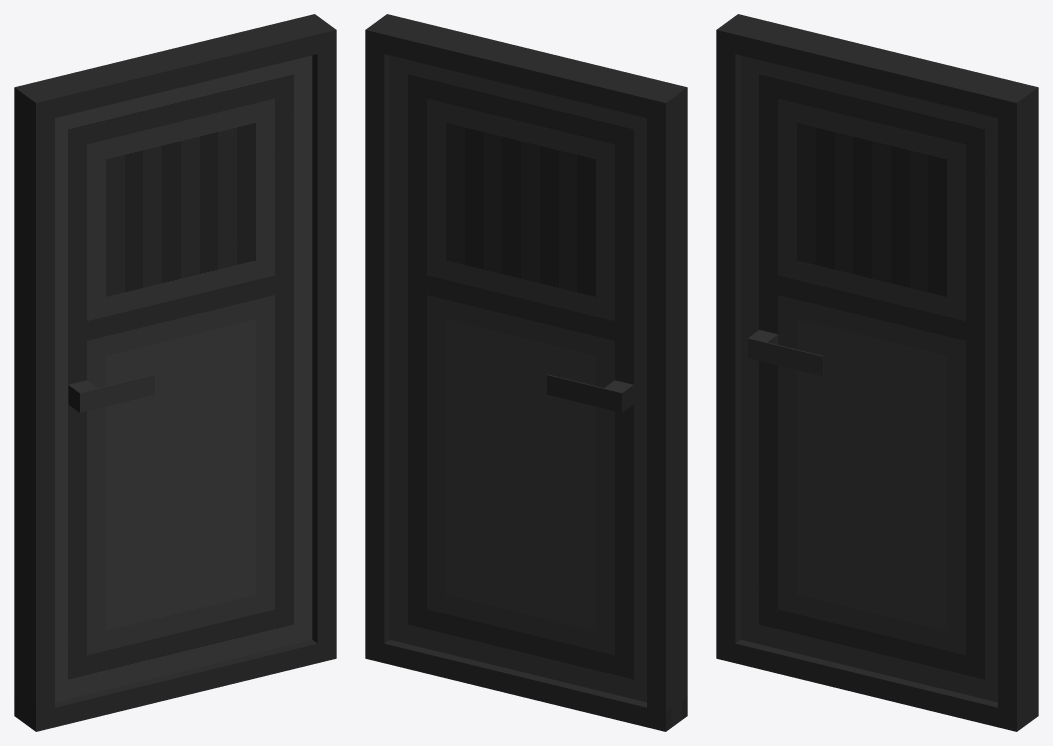
Rendered from close.obj.
3 views of the same model, side by side, from view 1: azimuth 30°, elevation 25°; view 2: azimuth 150°, elevation 25°; view 3: azimuth 330°, elevation 25° (orthographic).
Parts seen in each view (by area): view 1: cube; view 2: cube; view 3: cube.
Boxes of the visible parts, x1,y1,x2,y2 form: cube: (14,14,336,731); cube: (365,14,687,731); cube: (716,14,1038,731).
Size of the model in its own units: 1 by 2 by 0.1969.
